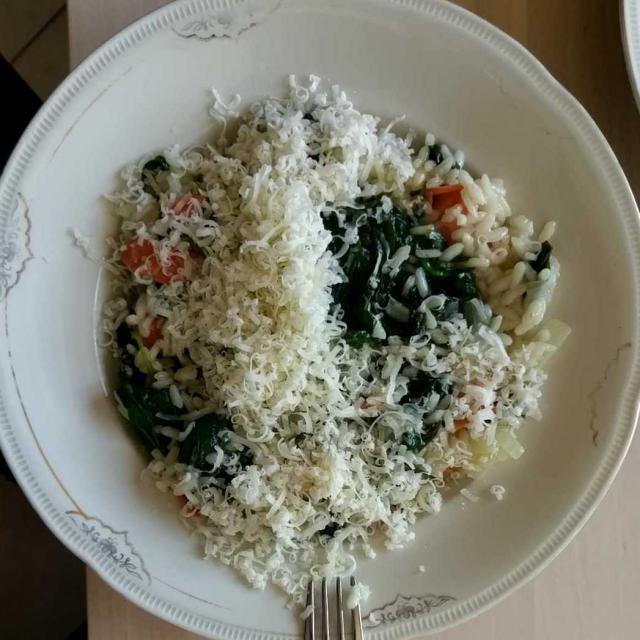cheese: (134, 90, 503, 584)
leaf-spinach: (103, 190, 481, 486)
risotto-without-cheese-cooked: (106, 97, 555, 600)
